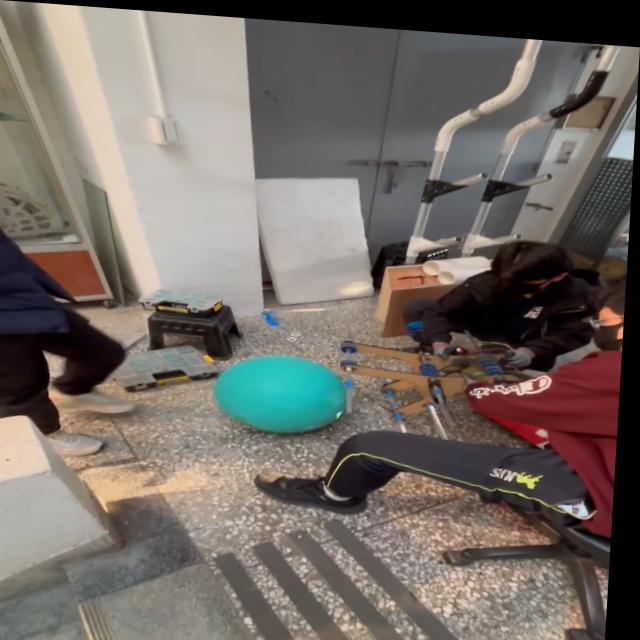ALGAE: (209, 349, 351, 439)
